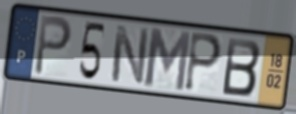5: (77, 19, 107, 81)
B: (220, 35, 263, 99)
M: (143, 25, 193, 94)
N: (109, 23, 151, 87)
P: (182, 30, 224, 95), (32, 14, 74, 79)
